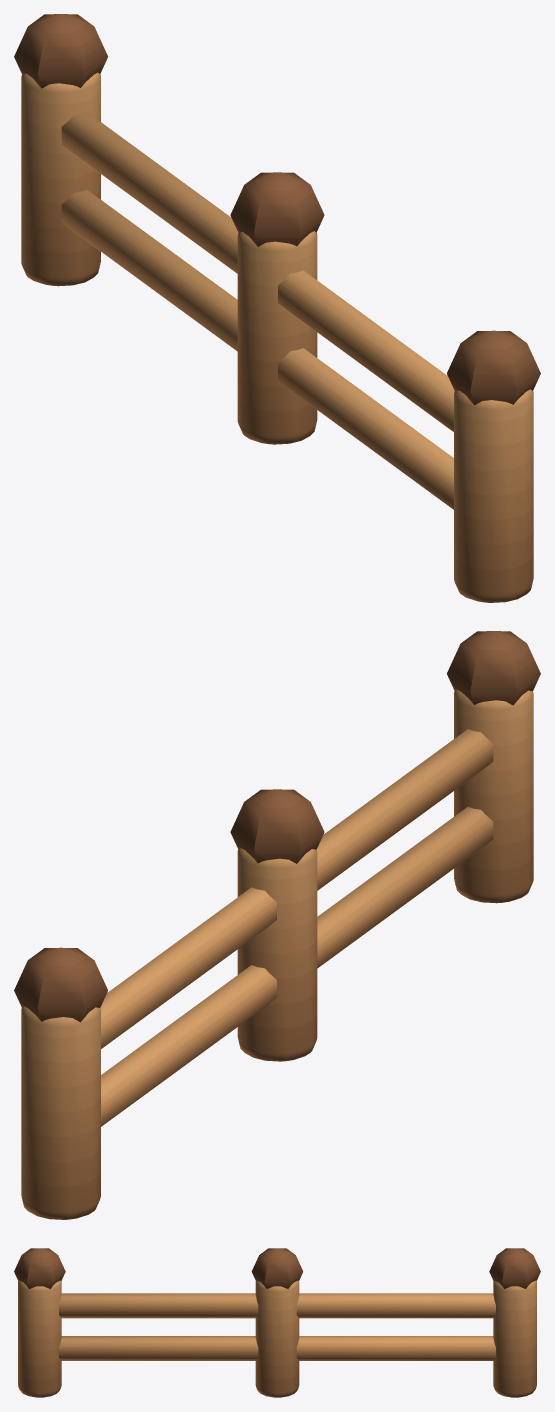
Rendered from fence.glb.
3 views of the same model, one above another, from view 1: azimuth 30°, elevation 25°; view 2: azimuth 150°, elevation 25°; view 3: azimuth 270°, elevation 25° (orthographic). The views are drawn at different scales.
Parts seen in each view (by area): view 1: fence; view 2: fence; view 3: fence.
Part boxes in pixels (x1,y1,x2,y2): fence: (14,14,540,602); fence: (14,631,540,1219); fence: (14,1248,540,1397).
Size of the model in its own units: 0.0953 by 0.335 by 1.12.
Materials: 1 (1 with a texture image).
